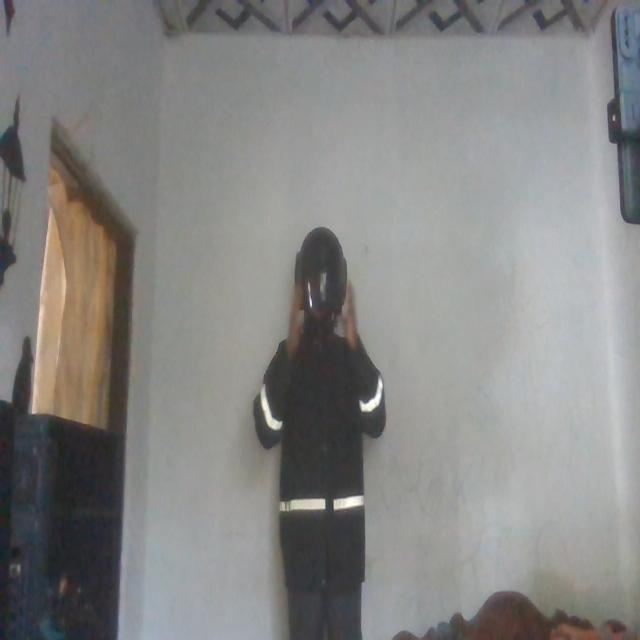Helmet_Wearer: (286, 229, 354, 335)
Jacket_Wearer: (258, 331, 386, 575)
Person: (254, 229, 392, 640)
